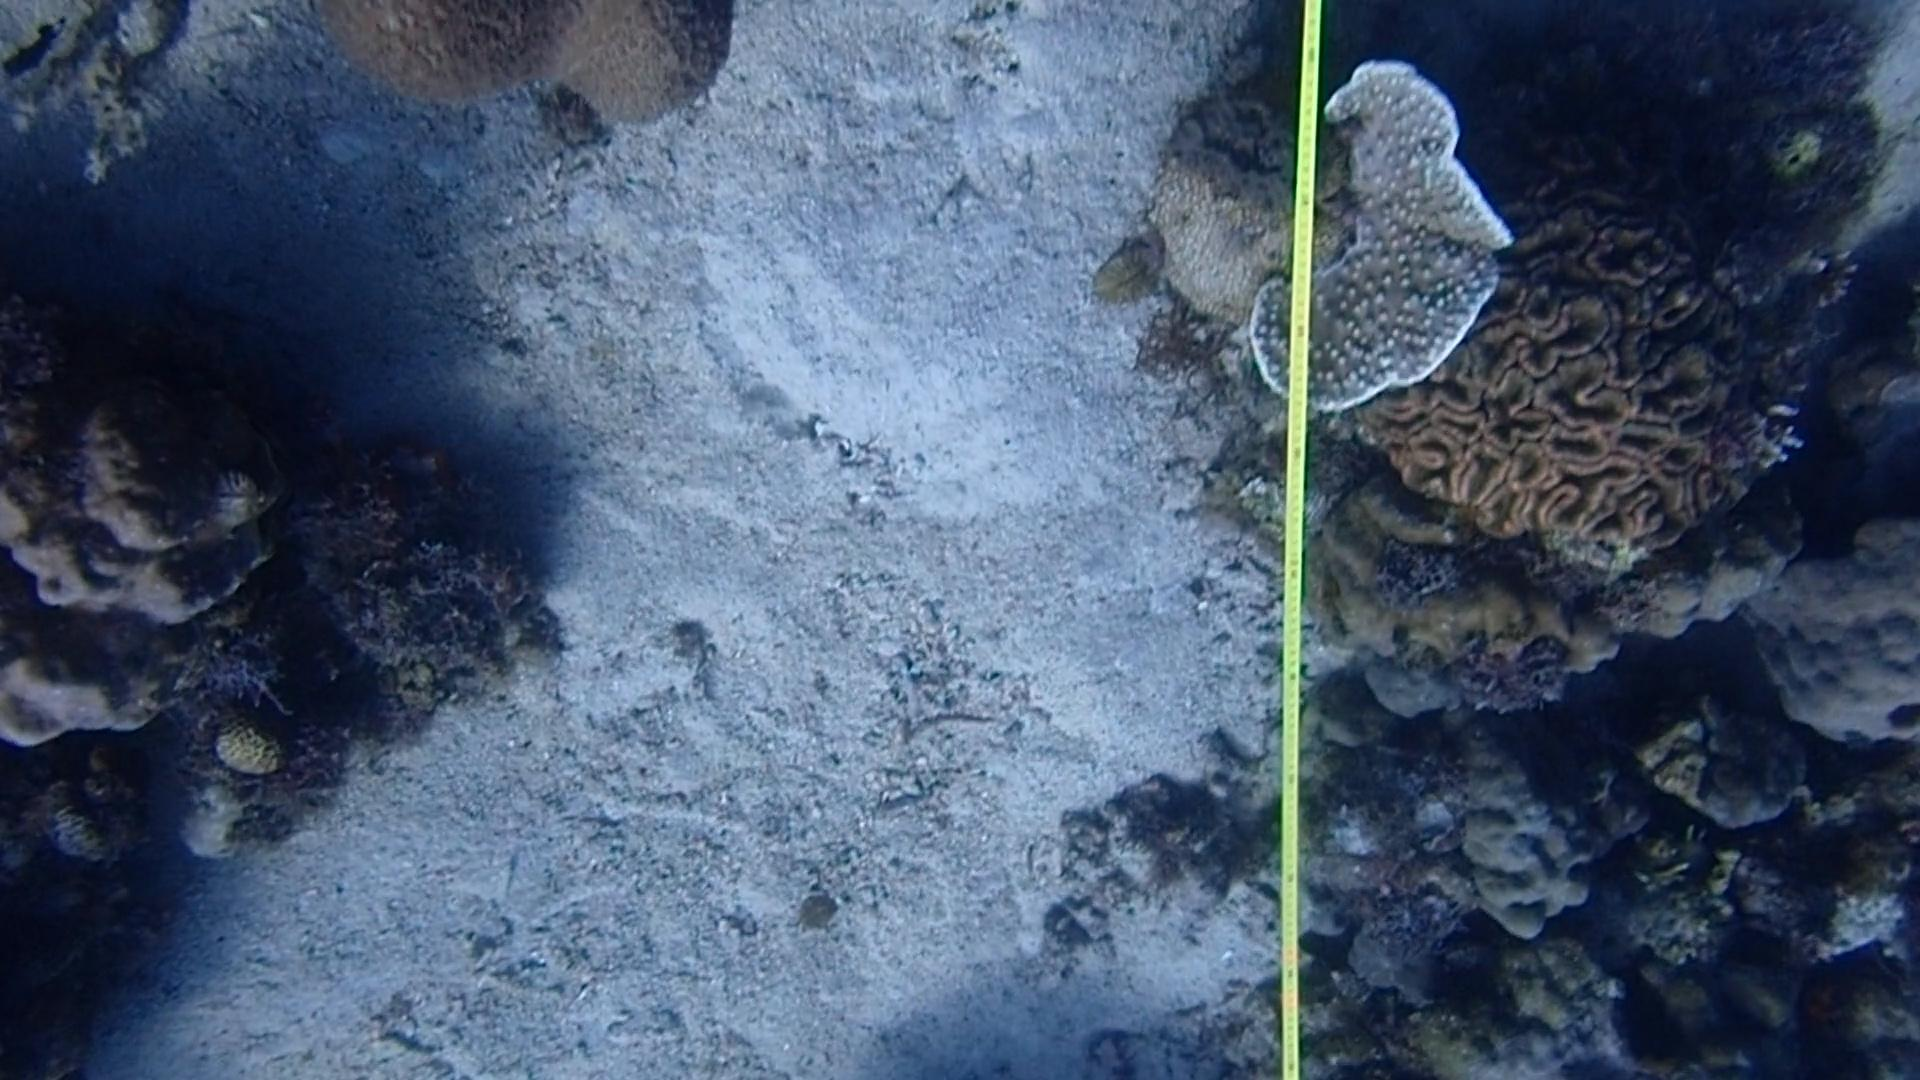Dark Fish: (7, 9, 70, 88)
